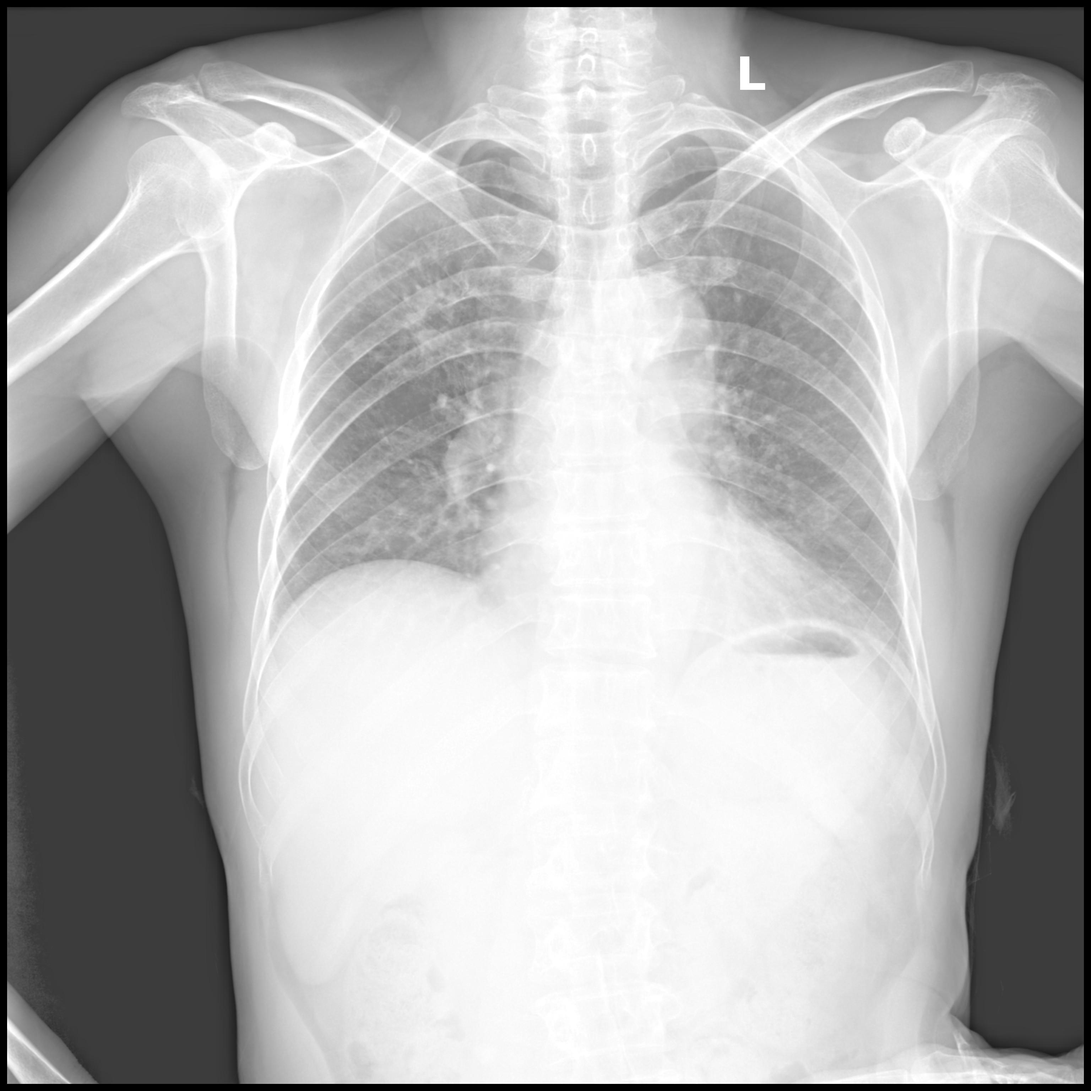Aortic enlargement: (596, 272, 715, 394)
Cardiomegaly: (478, 522, 829, 626)
Pulmonary fibrosis: (328, 240, 495, 397)
